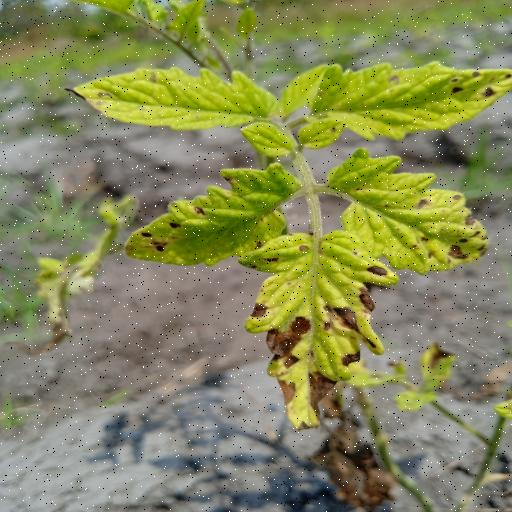Tomato_Brown_Spots: (238, 228, 406, 434), (326, 144, 498, 275)
